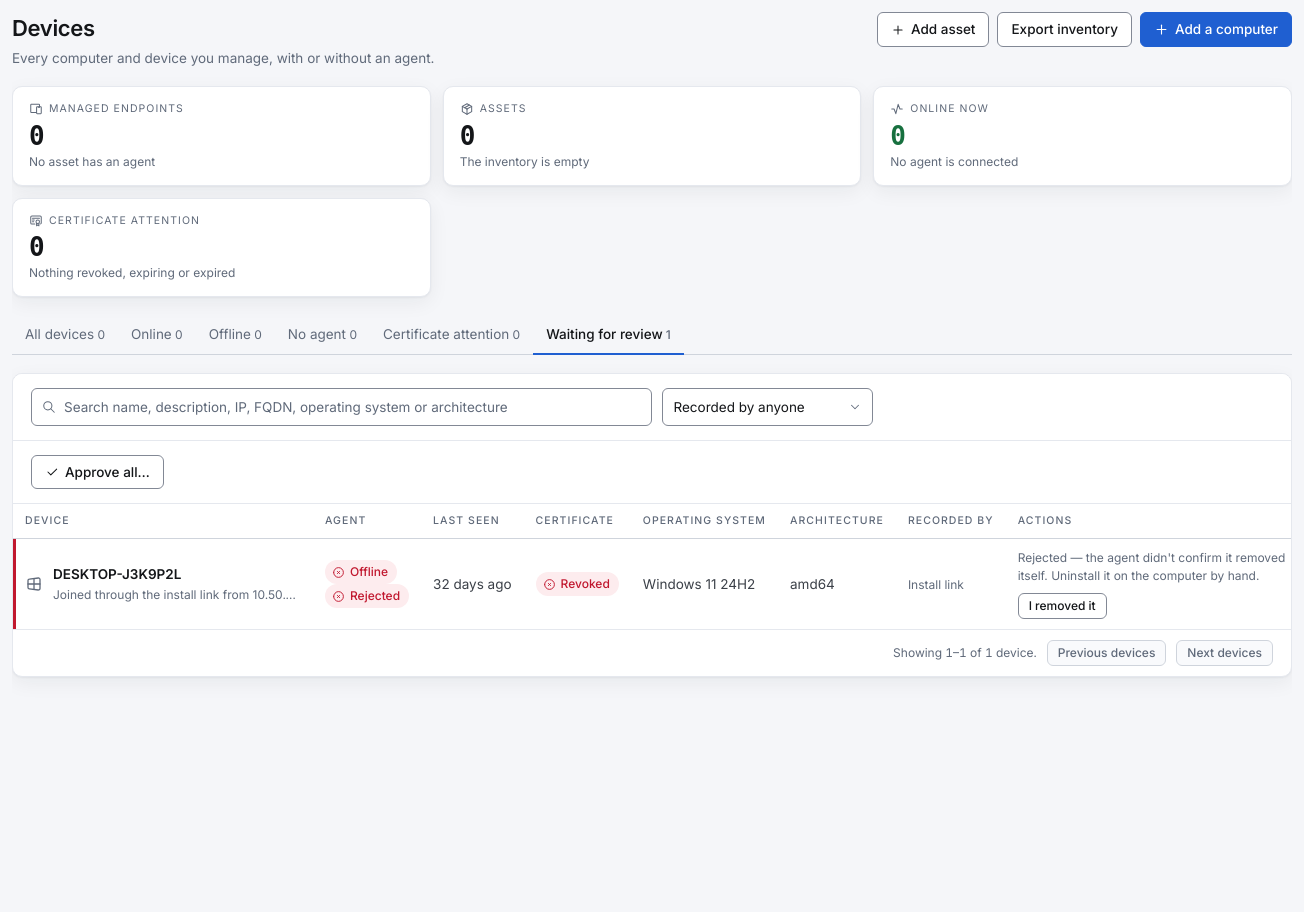
Test: A rejection that left the agent behind › a refusal is said in the server's words and the row stays
Click the button with aria-label "I removed it from DESKTOP-J3K9P2L".
click(1062, 606)  # box [1018,593,1107,619]
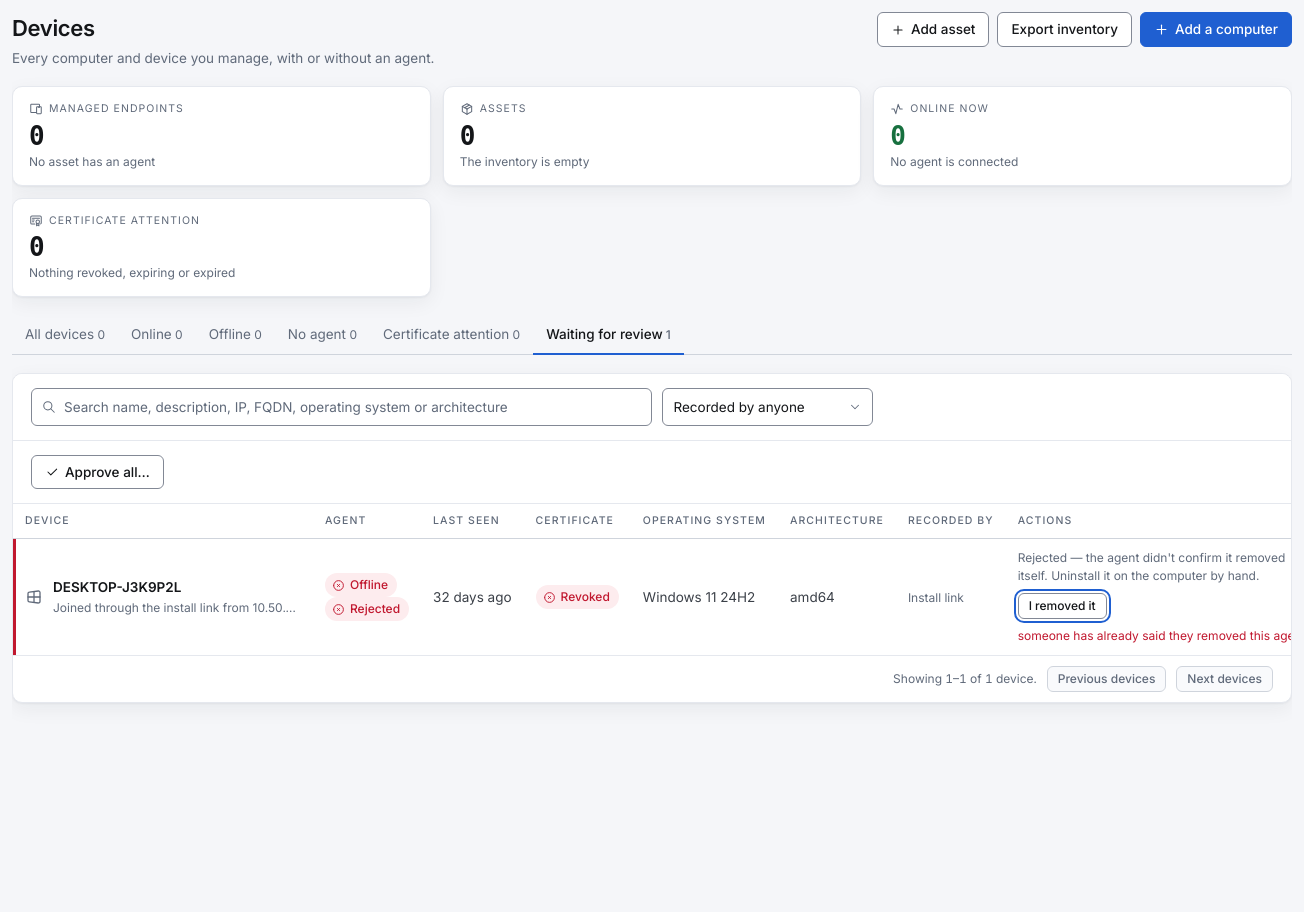
Expected: the text "DESKTOP-J3K9P2L" is shown, [53,579,181,595]
Expected: the message reads "someone has already said they removed this agent", [1018,628,1291,643]
